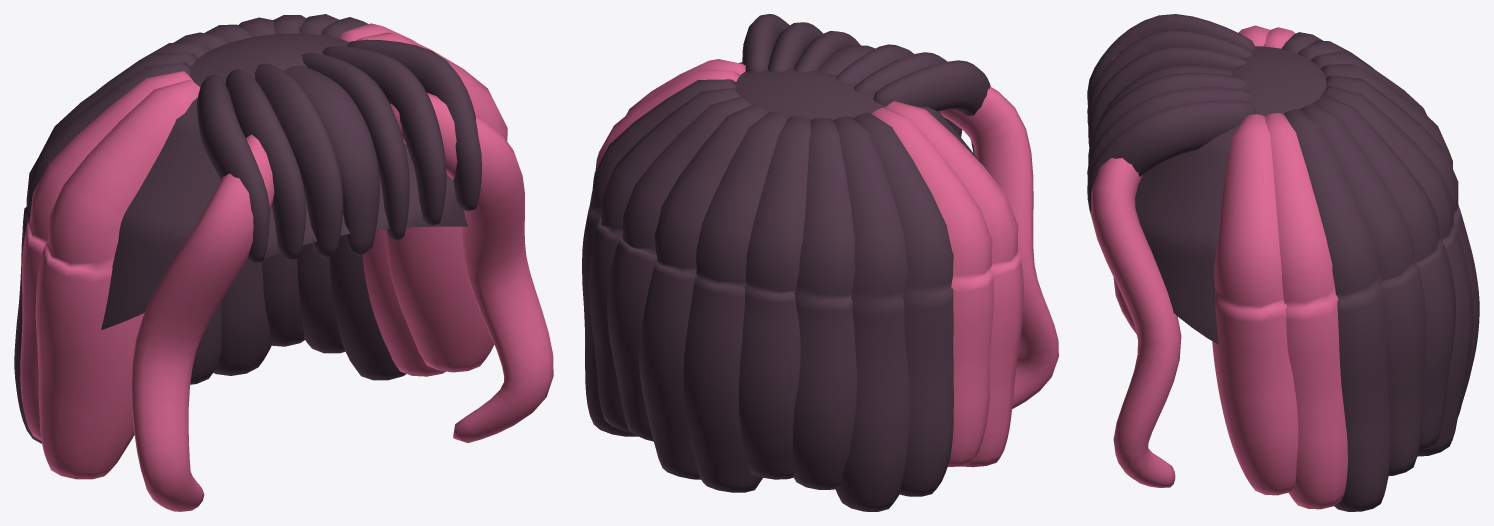
File: studio_bob_medium.glb
3 views of the same model, side by side, from view 1: azimuth 30°, elevation 25°; view 2: azimuth 150°, elevation 25°; view 3: azimuth 270°, elevation 25° (orthographic). The views are drawn at different scales.
Visible parts, largest first — view 1: bob; view 2: bob; view 3: bob.
Part boxes in pixels (x1,y1,x2,y2): bob: (14, 14, 553, 511); bob: (582, 14, 1058, 511); bob: (1087, 14, 1479, 511).
Size of the model in its own units: 0.5628 by 0.4743 by 0.4498.
